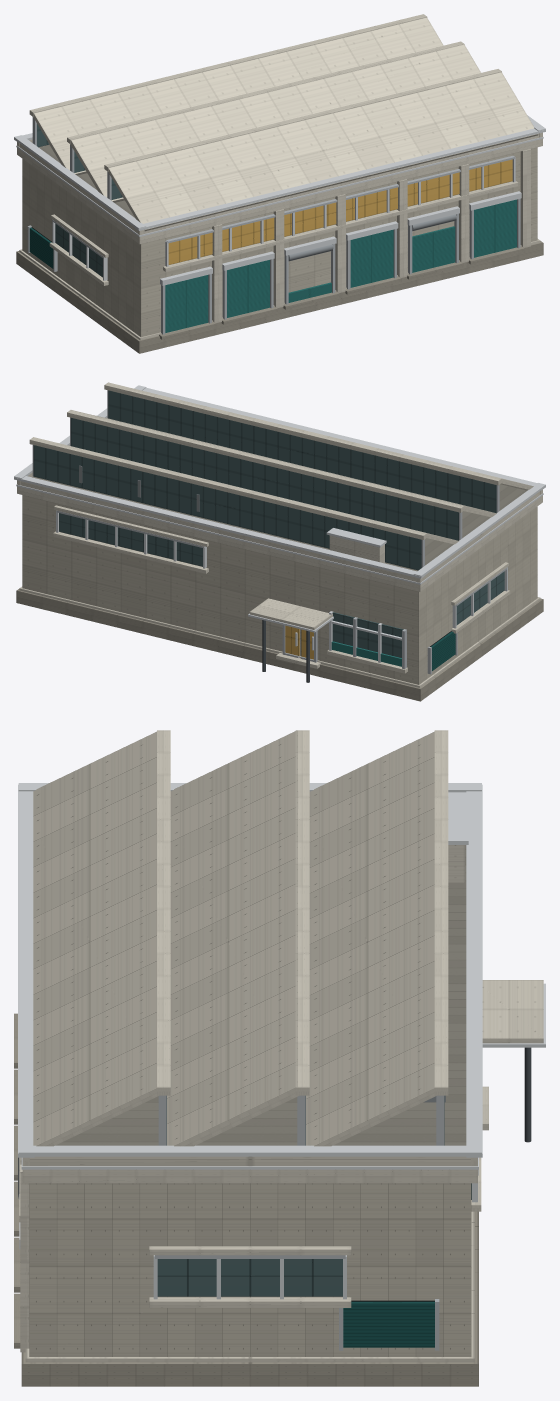
Rendered from lf-2-built.glb.
3 renders of one model, top to bottom at view 1: azimuth 30°, elevation 25°; view 2: azimuth 150°, elevation 25°; view 3: azimuth 270°, elevation 25°, orthographic. The views are drawn at different scales.
Size of the model in its own units: 27.72 by 10.31 by 16.86.
Materials: 31 (22 with a texture image).
